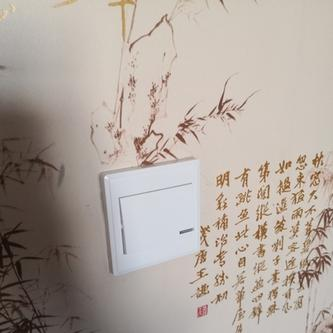switch: (114, 176, 197, 258)
